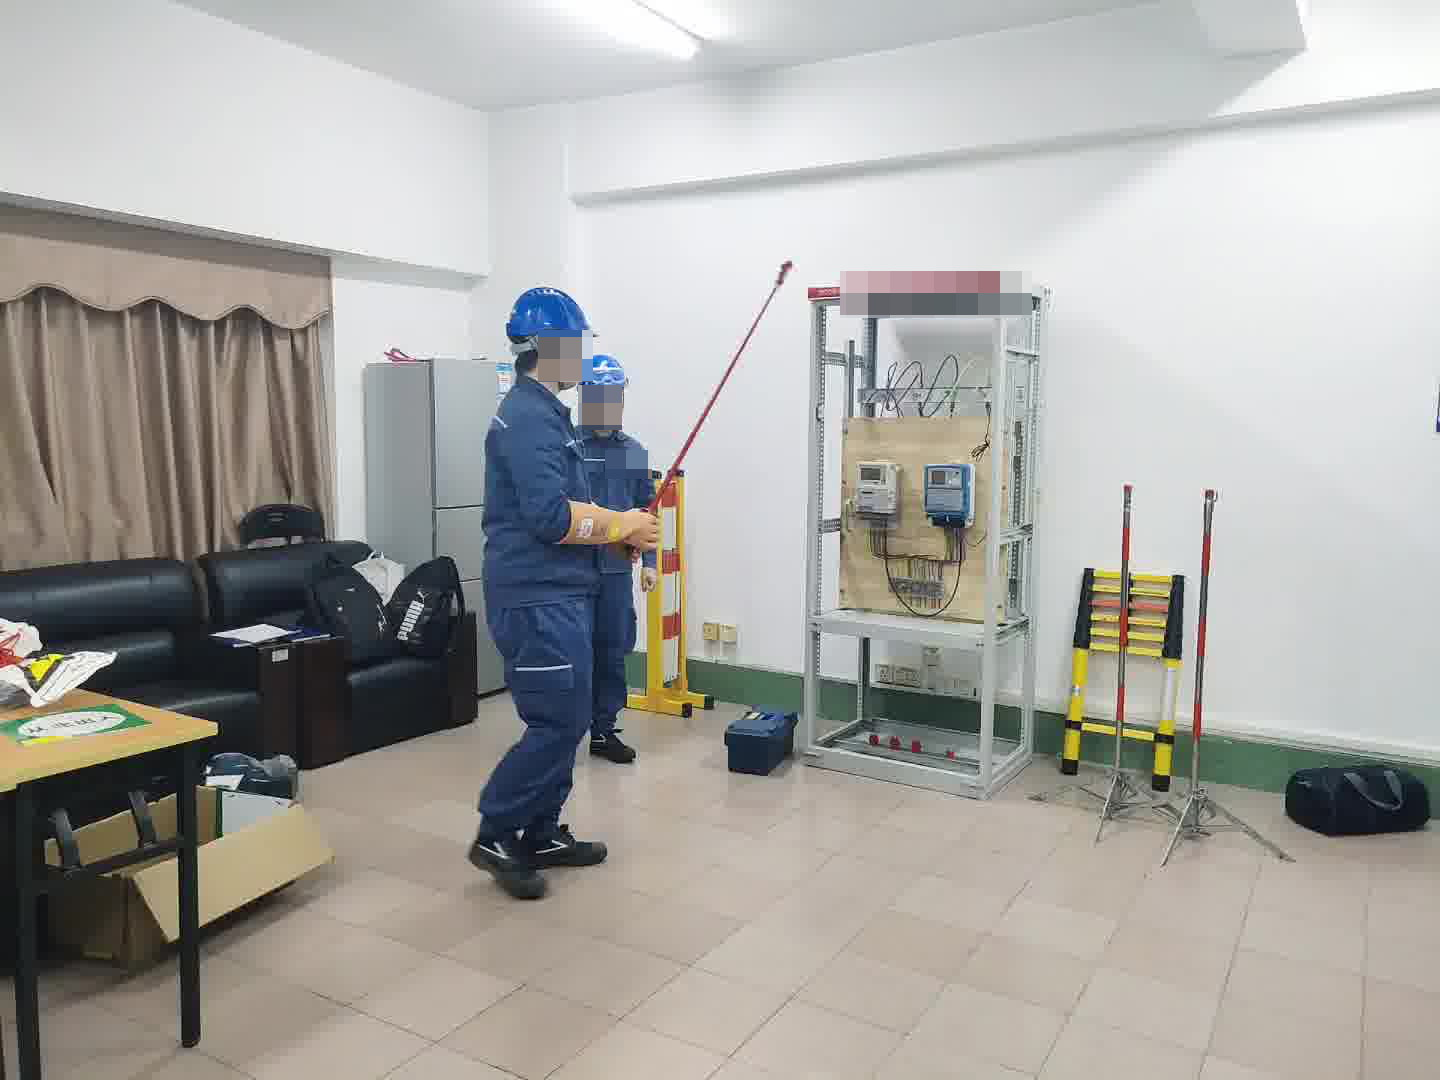downsuit: (476, 602, 601, 841), (592, 569, 651, 733)
halt: (504, 287, 592, 384), (576, 352, 633, 431)
hand: (639, 566, 659, 592)
inear: (523, 332, 572, 397)
longglove: (556, 493, 667, 555)
person: (467, 290, 664, 888)
testrod: (628, 260, 792, 563)
upsuit: (480, 373, 601, 596), (573, 425, 666, 563)
